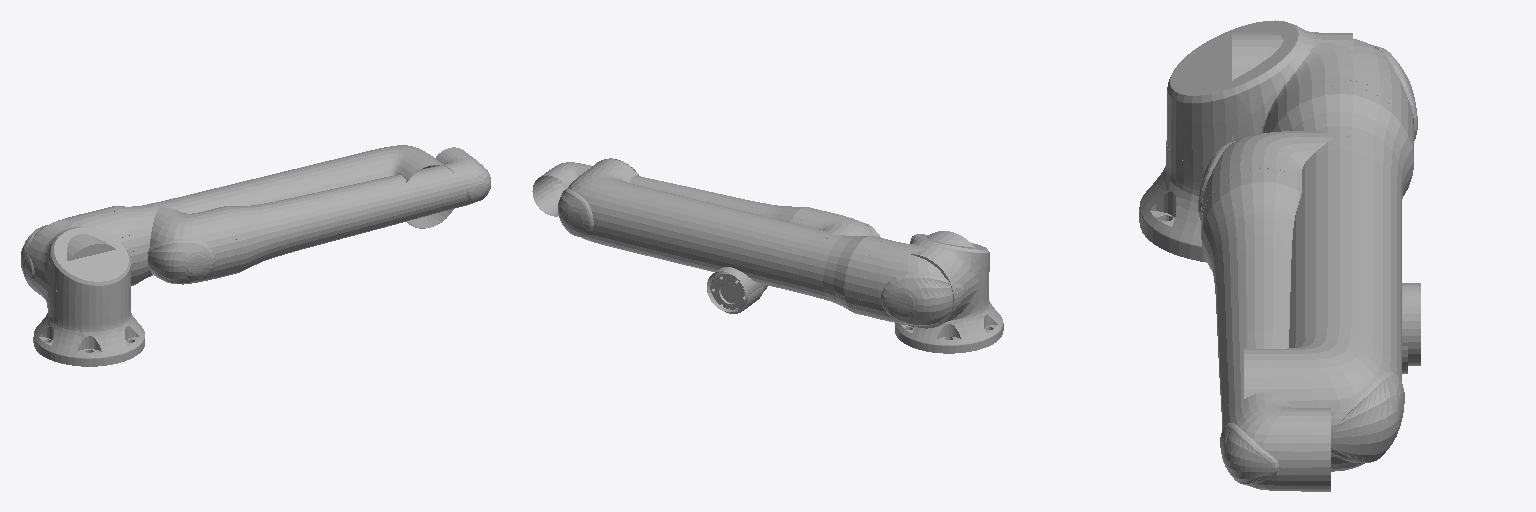
URDF robot description (ur3e_robot):
<?xml version="1.0" ?>
<!-- =================================================================================== -->
<!-- |    This document was autogenerated by xacro from ur3e.xacro                     | -->
<!-- |    EDITING THIS FILE BY HAND IS NOT RECOMMENDED                                 | -->
<!-- =================================================================================== -->
<robot name="ur3e_robot">
  <!--
    Base UR robot series xacro macro.

    NOTE: this is NOT a URDF. It cannot directly be loaded by consumers
    expecting a flattened '.urdf' file. See the top-level '.xacro' for that
    (but note: that .xacro must still be processed by the xacro command).

    For use in '.launch' files: use one of the 'load_urX.launch' convenience
    launch files.

    This file models the base kinematic chain of a UR robot, which then gets
    parameterised by various configuration files to convert it into a UR3(e),
    UR5(e), UR7e, UR10(e), UR12e UR16e, UR15, UR20 or UR30.

    NOTE: the default kinematic parameters (ie: link lengths, frame locations,
    offets, etc) do not correspond to any particular robot. They are defaults
    only. There WILL be non-zero offsets between the Forward Kinematics results
    in TF (ie: robot_state_publisher) and the values reported by the Teach
    Pendant.

    For accurate (and robot-specific) transforms, the 'kinematics_parameters_file'
    parameter MUST point to a .yaml file containing the appropriate values for
    the targetted robot.

    If using the UniversalRobots/Universal_Robots_ROS_Driver, follow the steps
    described in the readme of that repository to extract the kinematic
    calibration from the controller and generate the required .yaml file.

    Main author of the migration to yaml configs: Ludovic Delval.

    Contributors to previous versions (in no particular order):

     - Felix Messmer
     - Kelsey Hawkins
     - Wim Meeussen
     - Shaun Edwards
     - Nadia Hammoudeh Garcia
     - Dave Hershberger
     - G. vd. Hoorn
     - Philip Long
     - Dave Coleman
     - Miguel Prada
     - Mathias Luedtke
     - Marcel Schnirring
     - Felix von Drigalski
     - Felix Exner
     - Jimmy Da Silva
     - Ajit Krisshna N L
     - Muhammad Asif Rana
  -->
  <!--
    NOTE: the macro defined in this file is NOT part of the public API of this
          package. Users CANNOT rely on this file being available, or stored in
          this location. Nor can they rely on the existence of the macro.
  -->
  <transmission name="shoulder_pan_trans">
    <type>transmission_interface/SimpleTransmission</type>
    <joint name="shoulder_pan_joint">
      <hardwareInterface>hardware_interface/PositionJointInterface</hardwareInterface>
    </joint>
    <actuator name="shoulder_pan_motor">
      <mechanicalReduction>1</mechanicalReduction>
    </actuator>
  </transmission>
  <transmission name="shoulder_lift_trans">
    <type>transmission_interface/SimpleTransmission</type>
    <joint name="shoulder_lift_joint">
      <hardwareInterface>hardware_interface/PositionJointInterface</hardwareInterface>
    </joint>
    <actuator name="shoulder_lift_motor">
      <mechanicalReduction>1</mechanicalReduction>
    </actuator>
  </transmission>
  <transmission name="elbow_trans">
    <type>transmission_interface/SimpleTransmission</type>
    <joint name="elbow_joint">
      <hardwareInterface>hardware_interface/PositionJointInterface</hardwareInterface>
    </joint>
    <actuator name="elbow_motor">
      <mechanicalReduction>1</mechanicalReduction>
    </actuator>
  </transmission>
  <transmission name="wrist_1_trans">
    <type>transmission_interface/SimpleTransmission</type>
    <joint name="wrist_1_joint">
      <hardwareInterface>hardware_interface/PositionJointInterface</hardwareInterface>
    </joint>
    <actuator name="wrist_1_motor">
      <mechanicalReduction>1</mechanicalReduction>
    </actuator>
  </transmission>
  <transmission name="wrist_2_trans">
    <type>transmission_interface/SimpleTransmission</type>
    <joint name="wrist_2_joint">
      <hardwareInterface>hardware_interface/PositionJointInterface</hardwareInterface>
    </joint>
    <actuator name="wrist_2_motor">
      <mechanicalReduction>1</mechanicalReduction>
    </actuator>
  </transmission>
  <transmission name="wrist_3_trans">
    <type>transmission_interface/SimpleTransmission</type>
    <joint name="wrist_3_joint">
      <hardwareInterface>hardware_interface/PositionJointInterface</hardwareInterface>
    </joint>
    <actuator name="wrist_3_motor">
      <mechanicalReduction>1</mechanicalReduction>
    </actuator>
  </transmission>
  <!-- links: main serial chain -->
  <link name="base_link"/>
  <link name="base_link_inertia">
    <visual>
      <origin rpy="0 0 3.141592653589793" xyz="0 0 0"/>
      <geometry>
        <mesh filename="package://example-robot-data/robots/universal_robots/meshes_description/ur3e/visual/base.dae"/>
      </geometry>
      <material name="LightGrey">
        <color rgba="0.7 0.7 0.7 1.0"/>
      </material>
    </visual>
    <collision>
      <origin rpy="0 0 3.141592653589793" xyz="0 0 0"/>
      <geometry>
        <mesh filename="package://example-robot-data/robots/universal_robots/meshes_description/ur3e/collision/base.stl"/>
      </geometry>
    </collision>
    <inertial>
      <mass value="2.0"/>
      <origin rpy="0 0 0" xyz="0 0 0"/>
      <inertia ixx="0.0030531654454" ixy="0.0" ixz="0.0" iyy="0.0030531654454" iyz="0.0" izz="0.005625"/>
    </inertial>
  </link>
  <link name="shoulder_link">
    <visual>
      <origin rpy="0 0 3.141592653589793" xyz="0 0 0"/>
      <geometry>
        <mesh filename="package://example-robot-data/robots/universal_robots/meshes_description/ur3e/visual/shoulder.dae"/>
      </geometry>
      <material name="LightGrey">
        <color rgba="0.7 0.7 0.7 1.0"/>
      </material>
    </visual>
    <collision>
      <origin rpy="0 0 3.141592653589793" xyz="0 0 0"/>
      <geometry>
        <mesh filename="package://example-robot-data/robots/universal_robots/meshes_description/ur3e/collision/shoulder.stl"/>
      </geometry>
    </collision>
    <inertial>
      <mass value="1.98"/>
      <origin rpy="1.570796326794897 0 0" xyz="0.0 0.0 -0.02"/>
      <inertia ixx="0.0027657" ixy="9.6e-06" ixz="-1.49e-05" iyy="0.0021501" iyz="0.0001873" izz="0.0025626"/>
    </inertial>
  </link>
  <link name="upper_arm_link">
    <visual>
      <origin rpy="1.5707963267948966 0 -1.5707963267948966" xyz="0 0 0.12"/>
      <geometry>
        <mesh filename="package://example-robot-data/robots/universal_robots/meshes_description/ur3e/visual/upperarm.dae"/>
      </geometry>
      <material name="LightGrey">
        <color rgba="0.7 0.7 0.7 1.0"/>
      </material>
    </visual>
    <collision>
      <origin rpy="1.5707963267948966 0 -1.5707963267948966" xyz="0 0 0.12"/>
      <geometry>
        <mesh filename="package://example-robot-data/robots/universal_robots/meshes_description/ur3e/collision/upperarm.stl"/>
      </geometry>
    </collision>
    <inertial>
      <mass value="3.4445"/>
      <origin rpy="0 0 0" xyz="-0.11355 0.0 0.1157"/>
      <inertia ixx="0.0042623" ixy="-4.09e-05" ixz="-0.001496" iyy="0.0460284" iyz="-1.29e-05" izz="0.0448947"/>
    </inertial>
  </link>
  <link name="forearm_link">
    <visual>
      <origin rpy="1.5707963267948966 0 -1.5707963267948966" xyz="0 0 0.027"/>
      <geometry>
        <mesh filename="package://example-robot-data/robots/universal_robots/meshes_description/ur3e/visual/forearm.dae"/>
      </geometry>
      <material name="LightGrey">
        <color rgba="0.7 0.7 0.7 1.0"/>
      </material>
    </visual>
    <collision>
      <origin rpy="1.5707963267948966 0 -1.5707963267948966" xyz="0 0 0.027"/>
      <geometry>
        <mesh filename="package://example-robot-data/robots/universal_robots/meshes_description/ur3e/collision/forearm.stl"/>
      </geometry>
    </collision>
    <inertial>
      <mass value="1.437"/>
      <origin rpy="0 0 0" xyz="-0.1632 0.0 0.0238"/>
      <inertia ixx="0.0010511" ixy="0.0" ixz="-3.31e-05" iyy="0.0113396" iyz="2.2e-06" izz="0.0110895"/>
    </inertial>
  </link>
  <link name="wrist_1_link">
    <visual>
      <!-- TODO: Move this to a parameter -->
      <origin rpy="1.5707963267948966 0 0" xyz="0 0 -0.104"/>
      <geometry>
        <mesh filename="package://example-robot-data/robots/universal_robots/meshes_description/ur3e/visual/wrist1.dae"/>
      </geometry>
      <material name="LightGrey">
        <color rgba="0.7 0.7 0.7 1.0"/>
      </material>
    </visual>
    <collision>
      <origin rpy="1.5707963267948966 0 0" xyz="0 0 -0.104"/>
      <geometry>
        <mesh filename="package://example-robot-data/robots/universal_robots/meshes_description/ur3e/collision/wrist1.stl"/>
      </geometry>
    </collision>
    <inertial>
      <mass value="0.871"/>
      <origin rpy="1.570796326794897 0 0" xyz="0.0 -0.01 0.0"/>
      <inertia ixx="0.0008174" ixy="-5e-07" ixz="2.1e-06" iyy="0.0006844" iyz="6.17e-05" izz="0.0005497"/>
    </inertial>
  </link>
  <link name="wrist_2_link">
    <visual>
      <origin rpy="0 0 0" xyz="0 0 -0.08535"/>
      <geometry>
        <mesh filename="package://example-robot-data/robots/universal_robots/meshes_description/ur3e/visual/wrist2.dae"/>
      </geometry>
      <material name="LightGrey">
        <color rgba="0.7 0.7 0.7 1.0"/>
      </material>
    </visual>
    <collision>
      <origin rpy="0 0 0" xyz="0 0 -0.08535"/>
      <geometry>
        <mesh filename="package://example-robot-data/robots/universal_robots/meshes_description/ur3e/collision/wrist2.stl"/>
      </geometry>
    </collision>
    <inertial>
      <mass value="0.805"/>
      <origin rpy="-1.570796326794897 0 0" xyz="0.0 0.01 0.0"/>
      <inertia ixx="0.0006059" ixy="-6e-07" ixz="-6e-07" iyy="0.0005837" iyz="-2.71e-05" izz="0.0003831"/>
    </inertial>
  </link>
  <link name="wrist_3_link">
    <visual>
      <origin rpy="1.5707963267948966 0 0" xyz="0 0 -0.0921"/>
      <geometry>
        <mesh filename="package://example-robot-data/robots/universal_robots/meshes_description/ur3e/visual/wrist3.dae"/>
      </geometry>
      <material name="LightGrey">
        <color rgba="0.7 0.7 0.7 1.0"/>
      </material>
    </visual>
    <collision>
      <origin rpy="1.5707963267948966 0 0" xyz="0 0 -0.0921"/>
      <geometry>
        <mesh filename="package://example-robot-data/robots/universal_robots/meshes_description/ur3e/collision/wrist3.stl"/>
      </geometry>
    </collision>
    <inertial>
      <mass value="0.261"/>
      <origin rpy="0 0 0" xyz="0.0 0.0 -0.02"/>
      <inertia ixx="0.000108" ixy="-1e-07" ixz="-1e-07" iyy="0.0001086" iyz="-2e-07" izz="0.0001371"/>
    </inertial>
  </link>
  <!-- joints: main serial chain -->
  <joint name="base_link-base_link_inertia" type="fixed">
    <parent link="base_link"/>
    <child link="base_link_inertia"/>
    <!-- 'base_link' is REP-103 aligned (so X+ forward), while the internal
           frames of the robot/controller have X+ pointing backwards.
           Use the joint between 'base_link' and 'base_link_inertia' (a dummy
           link/frame) to introduce the necessary rotation over Z (of pi rad).
      -->
    <origin rpy="0 0 3.141592653589793" xyz="0 0 0"/>
  </joint>
  <joint name="shoulder_pan_joint" type="revolute">
    <parent link="base_link_inertia"/>
    <child link="shoulder_link"/>
    <origin rpy="0 0 0" xyz="0 0 0.15185"/>
    <axis xyz="0 0 1"/>
    <limit effort="54.0" lower="-6.283185307179586" upper="6.283185307179586" velocity="3.141592653589793"/>
    <dynamics damping="0" friction="0"/>
  </joint>
  <joint name="shoulder_lift_joint" type="revolute">
    <parent link="shoulder_link"/>
    <child link="upper_arm_link"/>
    <origin rpy="1.570796327 0 0" xyz="0 0 0"/>
    <axis xyz="0 0 1"/>
    <limit effort="54.0" lower="-6.283185307179586" upper="6.283185307179586" velocity="3.141592653589793"/>
    <dynamics damping="0" friction="0"/>
  </joint>
  <joint name="elbow_joint" type="revolute">
    <parent link="upper_arm_link"/>
    <child link="forearm_link"/>
    <origin rpy="0 0 0" xyz="-0.24355 0 0"/>
    <axis xyz="0 0 1"/>
    <limit effort="28.0" lower="-3.141592653589793" upper="3.141592653589793" velocity="3.141592653589793"/>
    <dynamics damping="0" friction="0"/>
  </joint>
  <joint name="wrist_1_joint" type="revolute">
    <parent link="forearm_link"/>
    <child link="wrist_1_link"/>
    <origin rpy="0 0 0" xyz="-0.2132 0 0.13105"/>
    <axis xyz="0 0 1"/>
    <limit effort="9.0" lower="-6.283185307179586" upper="6.283185307179586" velocity="6.283185307179586"/>
    <dynamics damping="0" friction="0"/>
  </joint>
  <joint name="wrist_2_joint" type="revolute">
    <parent link="wrist_1_link"/>
    <child link="wrist_2_link"/>
    <origin rpy="1.570796327 0 0" xyz="0 -0.08535 -1.750557762378351e-11"/>
    <axis xyz="0 0 1"/>
    <limit effort="9.0" lower="-6.283185307179586" upper="6.283185307179586" velocity="6.283185307179586"/>
    <dynamics damping="0" friction="0"/>
  </joint>
  <joint name="wrist_3_joint" type="revolute">
    <parent link="wrist_2_link"/>
    <child link="wrist_3_link"/>
    <origin rpy="1.570796326589793 3.141592653589793 3.141592653589793" xyz="0 0.0921 -1.8890025766262e-11"/>
    <axis xyz="0 0 1"/>
    <limit effort="9.0" lower="-6.283185307179586" upper="6.283185307179586" velocity="6.283185307179586"/>
    <dynamics damping="0" friction="0"/>
  </joint>
  <!-- ROS-Industrial 'base' frame: base_link to UR 'Base' Coordinates transform -->
  <link name="base"/>
  <joint name="base_link-base_fixed_joint" type="fixed">
    <!-- Note the rotation over Z of pi radians: as base_link is REP-103
           aligned (ie: has X+ forward, Y+ left and Z+ up), this is needed
           to correctly align 'base' with the 'Base' coordinate system of
           the UR controller.
      -->
    <origin rpy="0 0 3.141592653589793" xyz="0 0 0"/>
    <parent link="base_link"/>
    <child link="base"/>
  </joint>
  <!-- ROS-Industrial 'flange' frame: attachment point for EEF models -->
  <link name="flange"/>
  <joint name="wrist_3-flange" type="fixed">
    <parent link="wrist_3_link"/>
    <child link="flange"/>
    <origin rpy="0 -1.5707963267948966 -1.5707963267948966" xyz="0 0 0"/>
  </joint>
  <!-- ROS-Industrial 'tool0' frame: all-zeros tool frame -->
  <link name="tool0"/>
  <joint name="flange-tool0" type="fixed">
    <!-- default toolframe: X+ left, Y+ up, Z+ front -->
    <origin rpy="1.5707963267948966 0 1.5707963267948966" xyz="0 0 0"/>
    <parent link="flange"/>
    <child link="tool0"/>
  </joint>
</robot>

--- Facts derived from the render (not from the file) ---
3 views of the same robot in one strip: view 1: azimuth 30°, elevation 25°; view 2: azimuth 150°, elevation 25°; view 3: azimuth 270°, elevation 25° (orthographic).
Robot: ur3e_robot — 11 links, 10 joints (6 revolute, 4 fixed); root link base_link; default pose: all joints at 0.
Visible links, largest first — view 1: forearm_link, upper_arm_link, shoulder_link, base_link_inertia; view 2: upper_arm_link, forearm_link, shoulder_link, base_link_inertia, wrist_3_link, wrist_2_link; view 3: upper_arm_link, forearm_link, shoulder_link, base_link_inertia, wrist_2_link.
Link boxes in pixels (x1,y1,x2,y2): forearm_link: (148, 147, 490, 284); upper_arm_link: (21, 145, 453, 291); shoulder_link: (23, 220, 130, 324); base_link_inertia: (33, 301, 144, 366); upper_arm_link: (558, 158, 985, 325); forearm_link: (532, 162, 880, 238); shoulder_link: (910, 234, 989, 328); base_link_inertia: (895, 293, 1003, 353); wrist_3_link: (710, 271, 763, 313); wrist_2_link: (707, 267, 767, 312); upper_arm_link: (1232, 33, 1417, 471); forearm_link: (1198, 131, 1350, 491); shoulder_link: (1167, 20, 1352, 181); base_link_inertia: (1139, 140, 1206, 262); wrist_2_link: (1402, 283, 1420, 365).
Bounding box of the posed robot: 1.15 × 0.3379 × 0.2485 m (x, y, z).
Meshes: 7 distinct files referenced, 7 mesh visuals loaded (7 Collada DAE).
